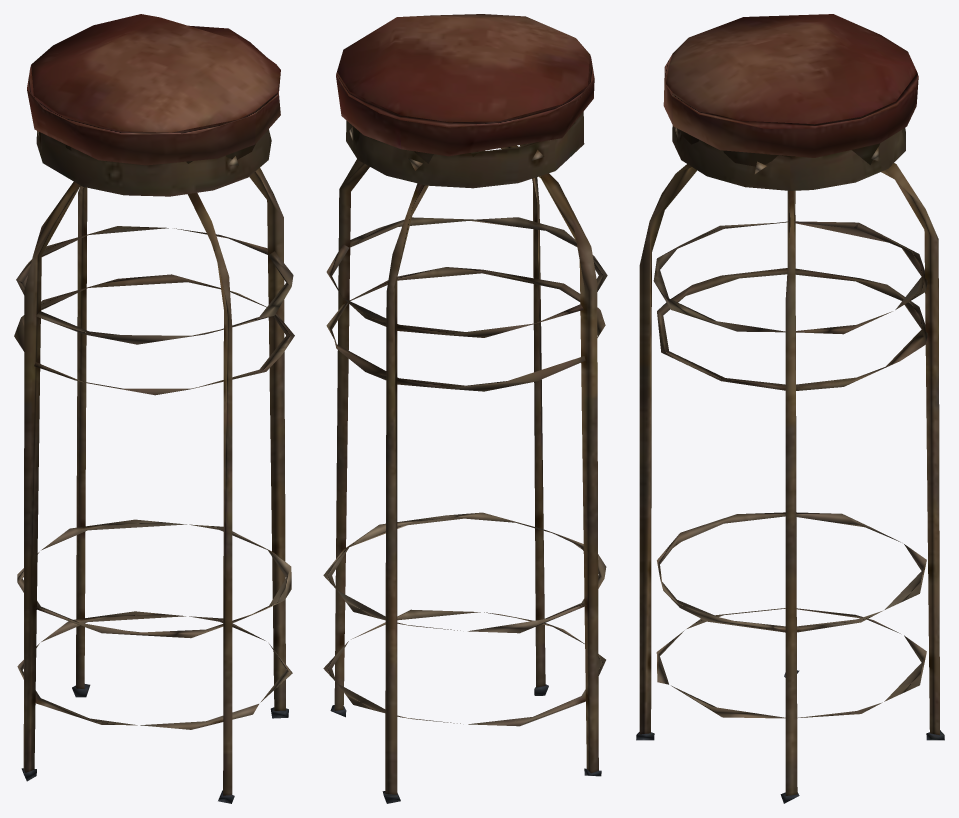
File: stoolMetal_lo.glb
3 views of the same model, side by side, from view 1: azimuth 30°, elevation 25°; view 2: azimuth 150°, elevation 25°; view 3: azimuth 270°, elevation 25° (orthographic).
Visible parts, largest first — view 1: metal_stool_01; view 2: metal_stool_01; view 3: metal_stool_01.
Part boxes in pixels (x1=…): metal_stool_01: x1=14, y1=14, x2=294, y2=803; metal_stool_01: x1=323, y1=14, x2=607, y2=803; metal_stool_01: x1=636, y1=14, x2=944, y2=803.
Bounding box in the file's own units: 0.3505 × 0.8796 × 0.3537.
Materials: 1 (1 with a texture image).
